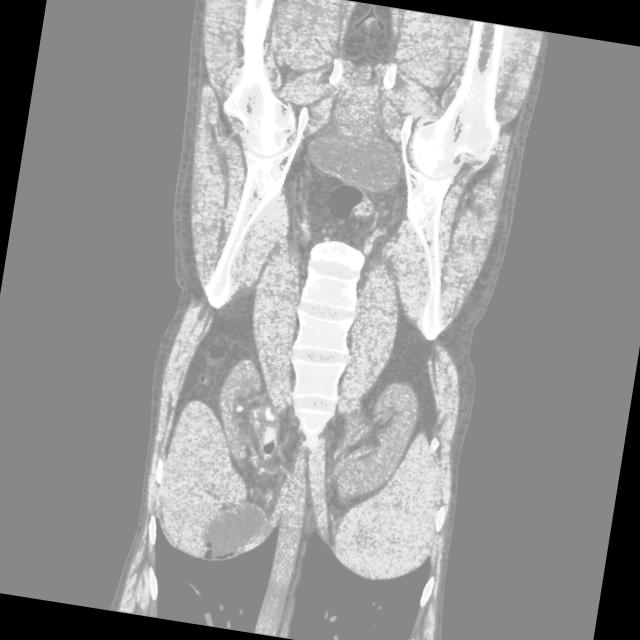STONE: (110, 295, 515, 524)
